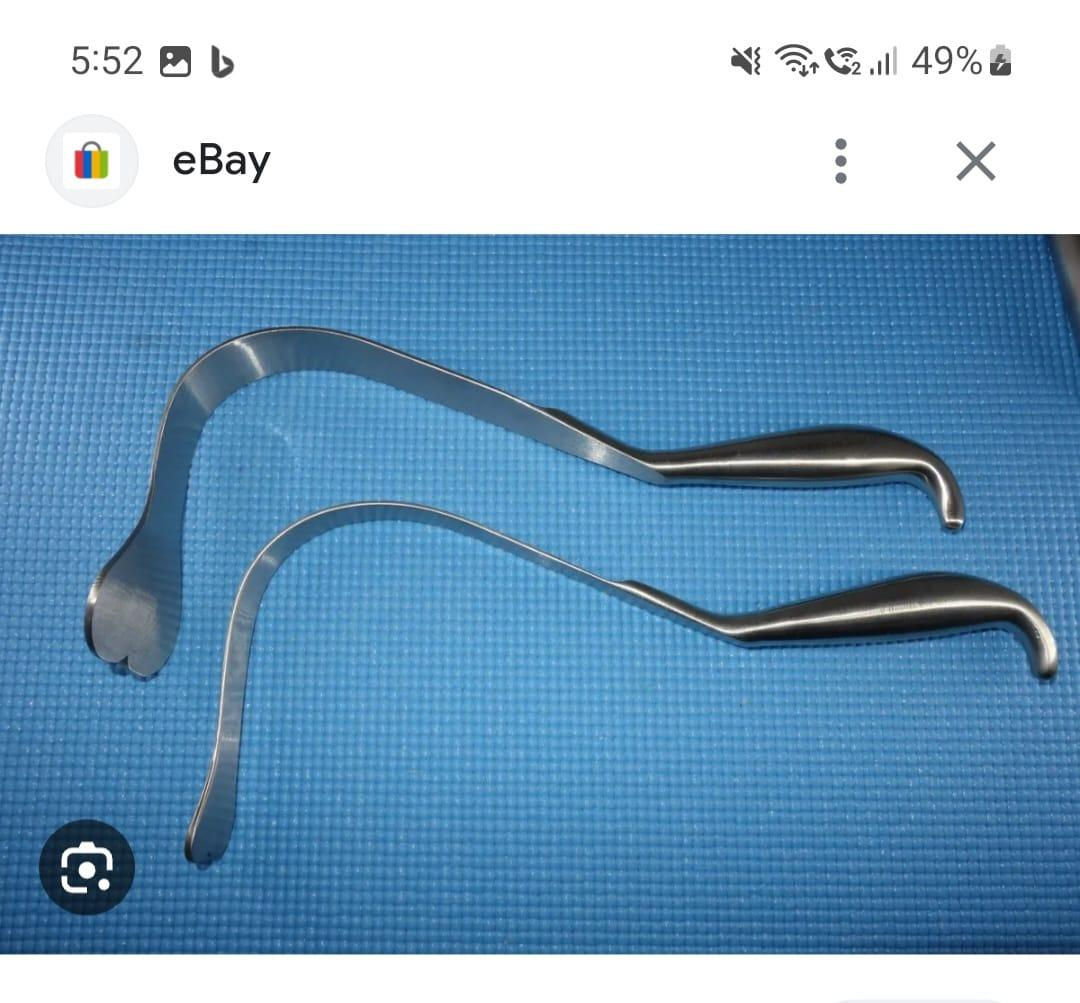Harrington Retractor: (70, 311, 967, 687), (173, 494, 1060, 870)
